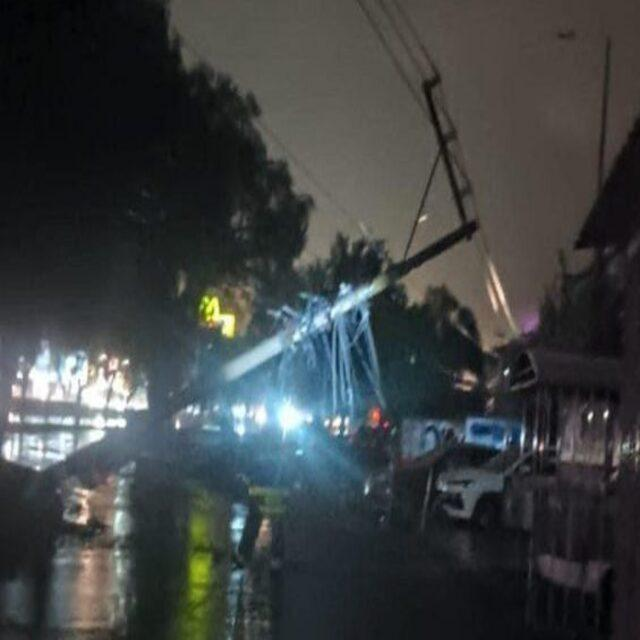Inclined Pole: (34, 72, 550, 509)
